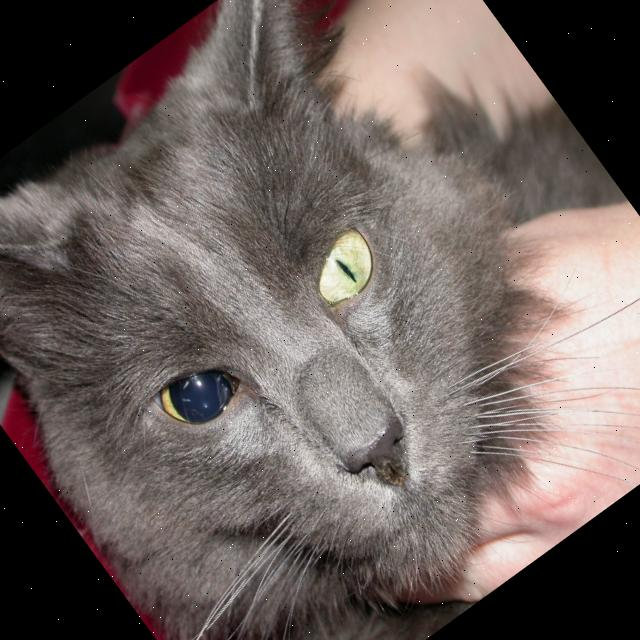cat-eye: (264, 178, 424, 346)
cat-eye-normal: (108, 316, 272, 480)
